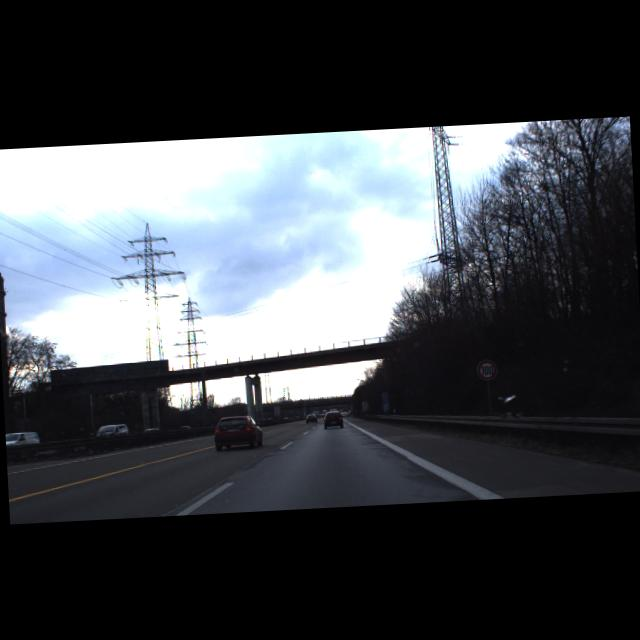prohibitory: (476, 358, 498, 381)
